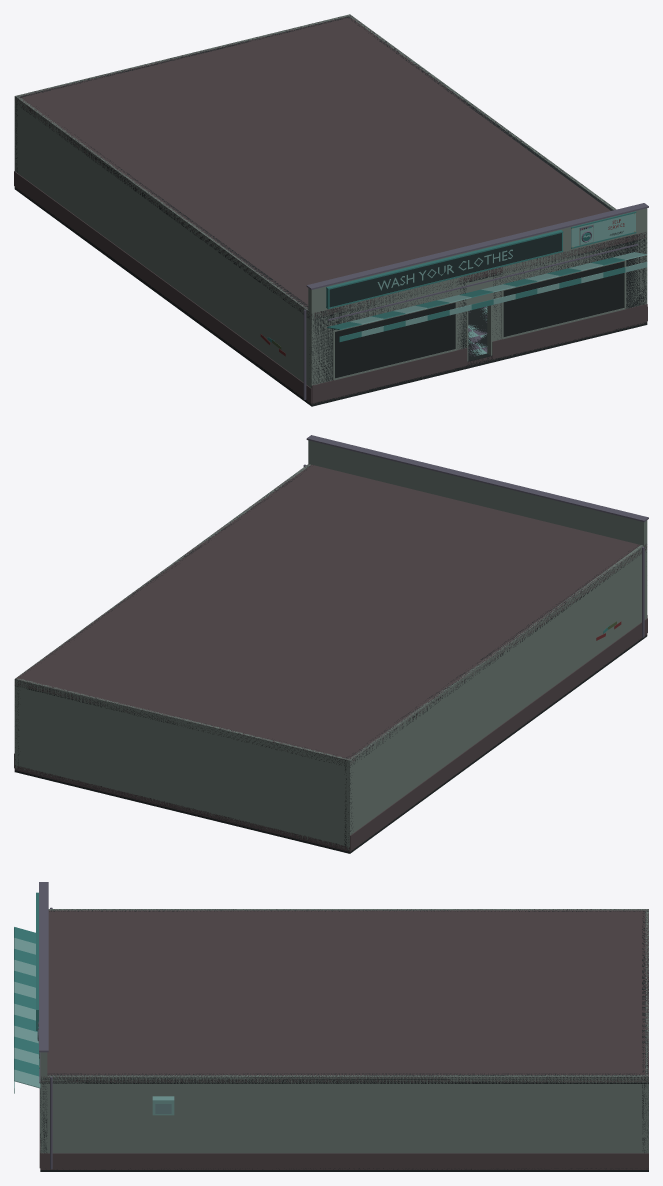
The model's file is casino_cladire.glb.
The picture shows the model from 3 angles, top to bottom: view 1: azimuth 30°, elevation 25°; view 2: azimuth 150°, elevation 25°; view 3: azimuth 270°, elevation 25°; orthographic projection. The views are drawn at different scales.
Visible parts, largest first — view 1: Cladire, Coliziune; view 2: Cladire, Coliziune; view 3: Cladire, Coliziune.
Boxes of the visible parts, x1,y1,x2,y2 form: Cladire: (14, 14, 648, 404); Coliziune: (14, 15, 647, 406); Cladire: (14, 435, 648, 851); Coliziune: (14, 464, 647, 853); Cladire: (14, 882, 648, 1169); Coliziune: (40, 909, 648, 1171).
Size of the model in its own units: 14.97 by 4.91 by 23.21.
